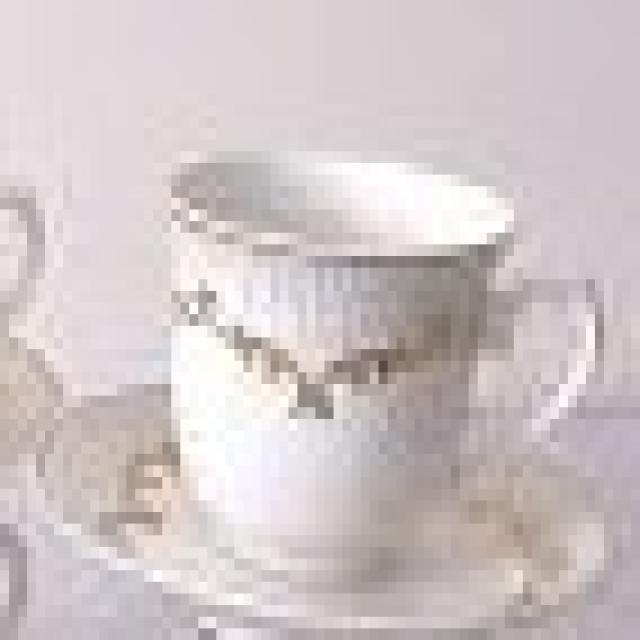taza: (123, 125, 618, 607), (498, 466, 586, 586)
